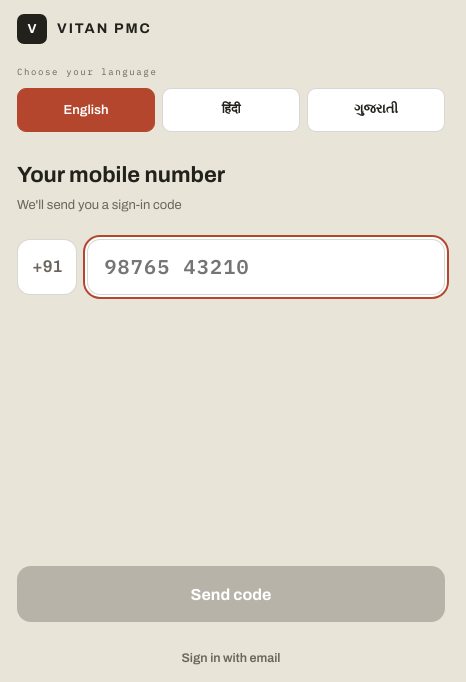
Test: #827 one-screen sign-in › why a code did not come reads in the gate’s language, with the real wait
Click the button with test id "gate-lang-gu": click(376, 110) [307,88,445,132]
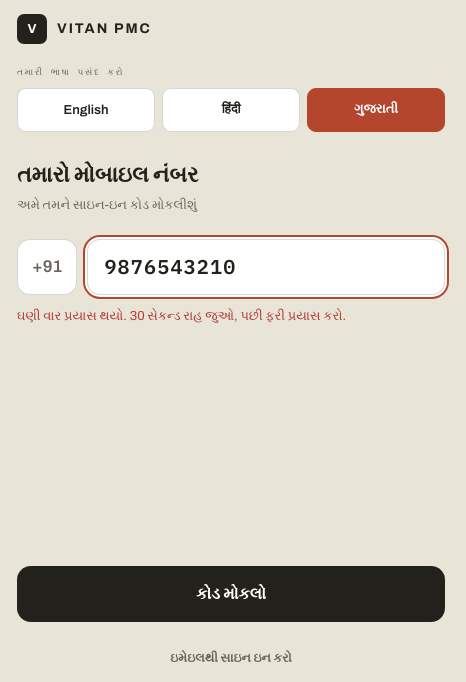
Check: the text "ઘણી વાર પ્રયાસ થયો. 30 સેકન્ડ રાહ જુઓ, પછી ફરી પ્રયાસ કરો." is shown, box [17,309,346,323]
Click the button with test id "gate-lang-hi": click(231, 110) [162,88,300,132]
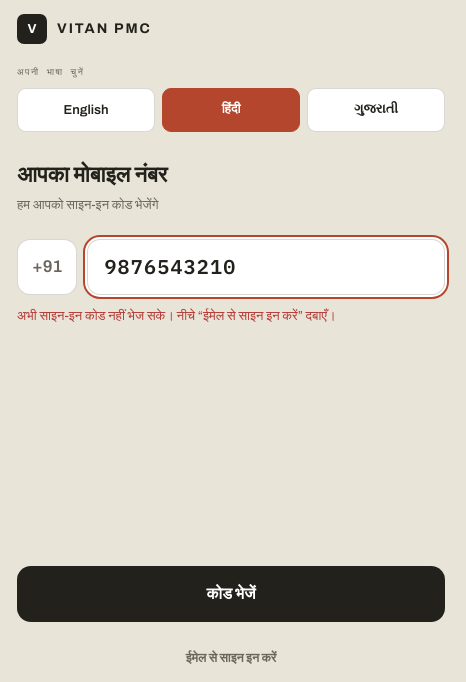
Check: the text "अभी साइन-इन कोड नहीं भेज सके। नीचे “ईमेल से साइन इन करें” दबाएँ।" is shown, box [17,309,336,323]
